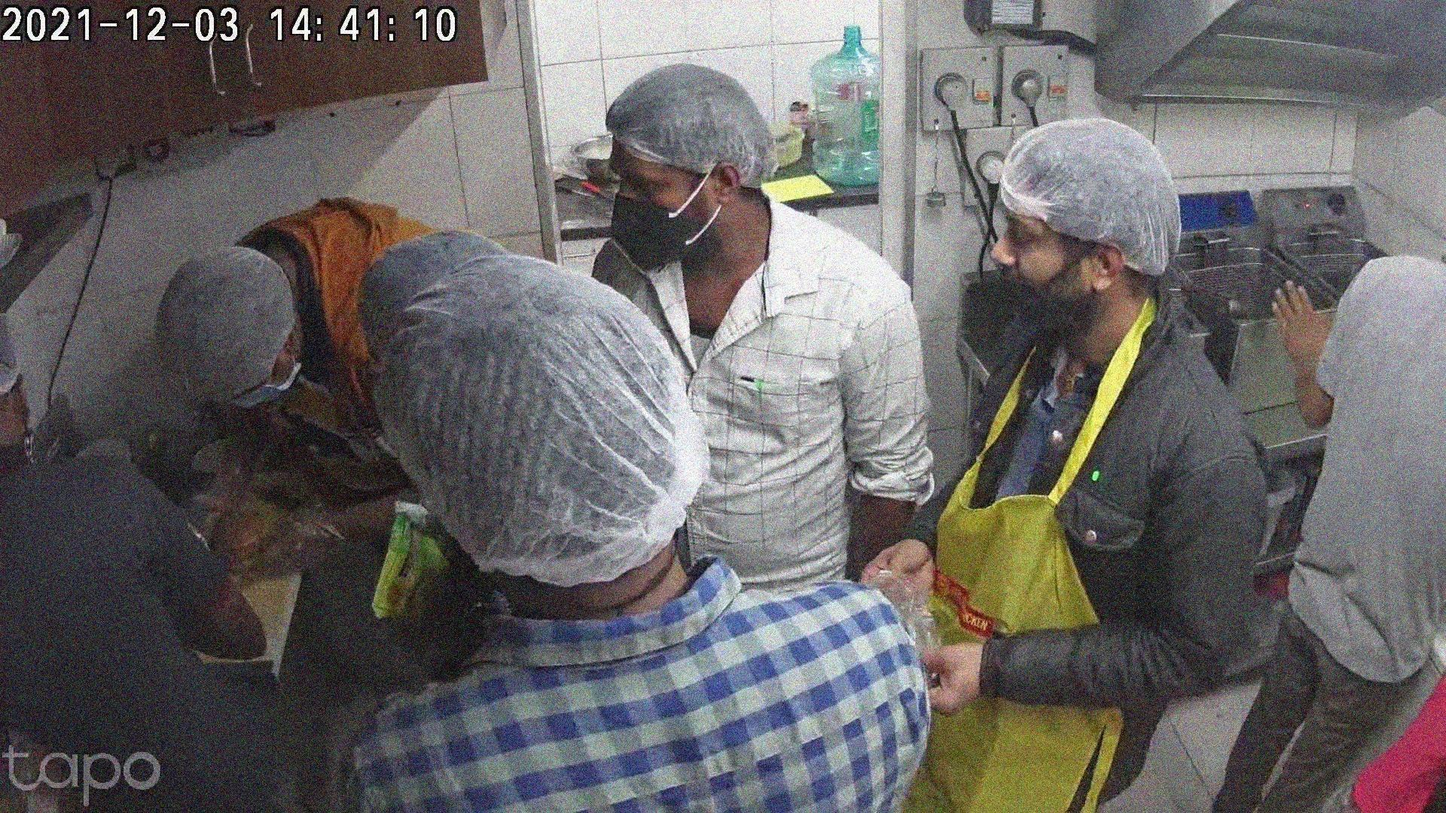apron: (222, 500, 363, 585)
gloves: (387, 262, 719, 600), (987, 104, 1200, 276), (144, 247, 324, 404), (598, 58, 806, 190), (357, 227, 515, 312)
mask: (608, 167, 702, 261)
no_apron: (915, 603, 1025, 728), (1266, 272, 1344, 369)
no_hairnet: (995, 202, 1081, 303)
